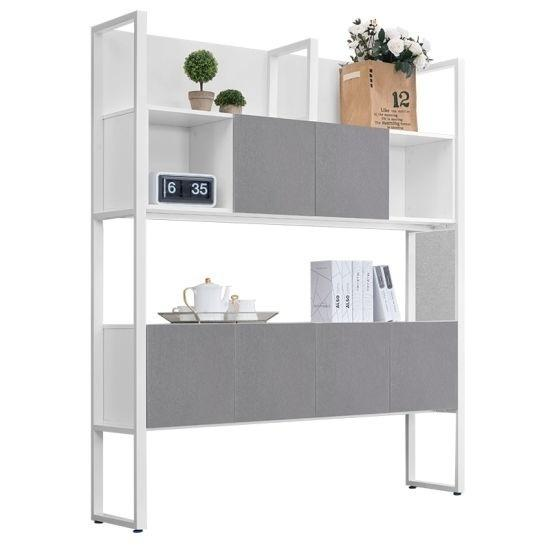cabinet_door: (144, 324, 234, 425), (235, 322, 317, 421), (233, 119, 315, 215), (317, 127, 390, 220), (320, 324, 391, 417), (390, 323, 459, 412)
